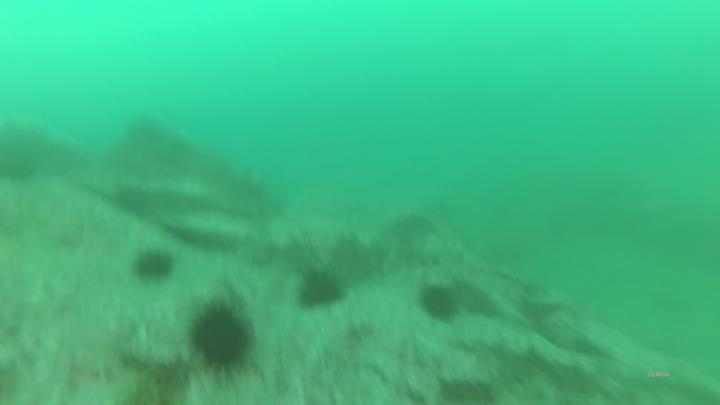echinus: (188, 301, 256, 389), (297, 266, 349, 311), (131, 248, 179, 285), (419, 284, 460, 325), (111, 188, 147, 219)
